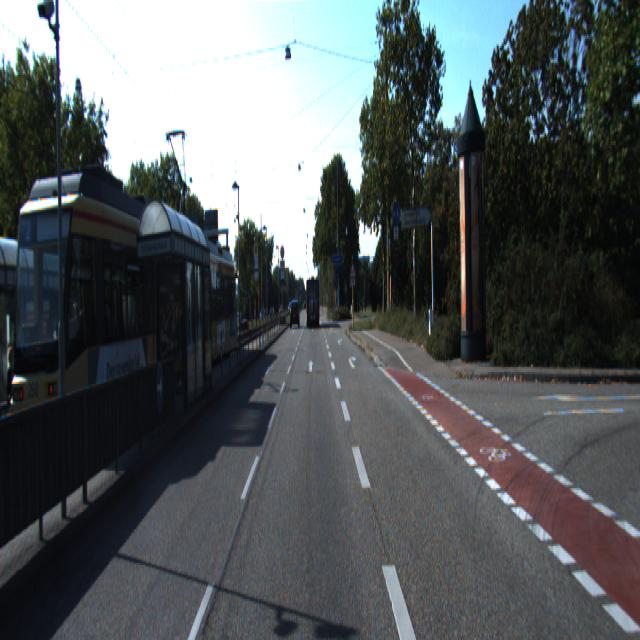Car: (0, 172, 213, 478), (181, 240, 243, 368), (306, 276, 320, 326), (290, 301, 300, 329)
